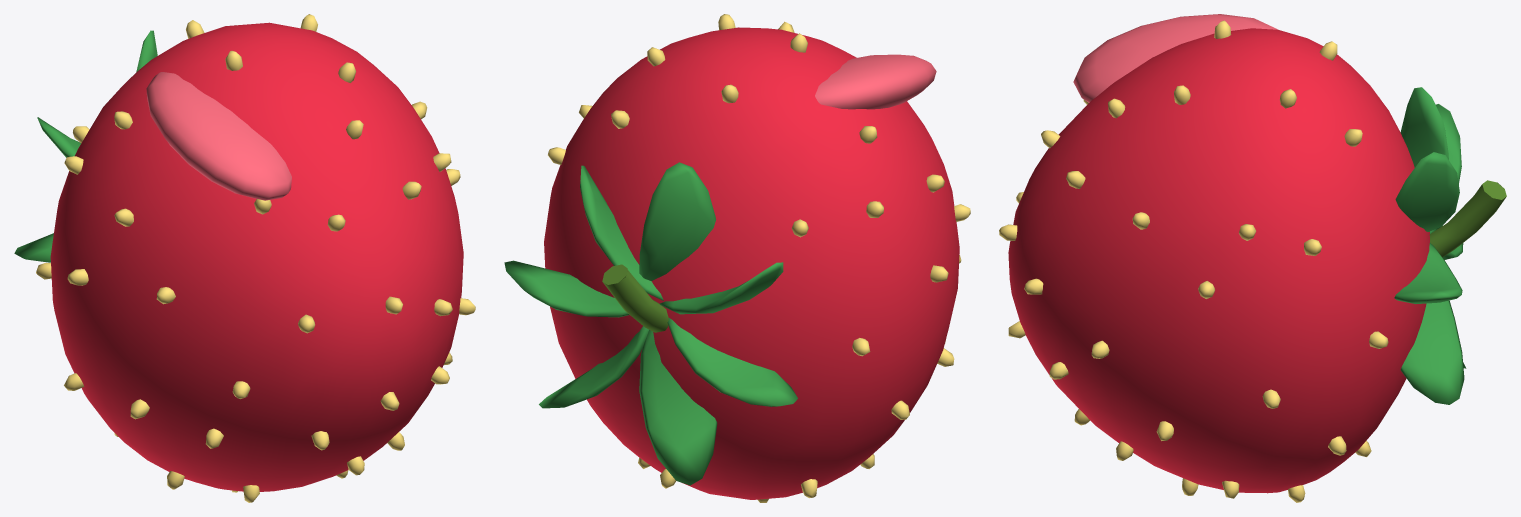
The model's file is tb_mat_jordbaer.glb.
3 views of the same model, side by side, from view 1: azimuth 30°, elevation 25°; view 2: azimuth 150°, elevation 25°; view 3: azimuth 270°, elevation 25° (orthographic). The views are drawn at different scales.
Visible parts, largest first — view 1: matkropp; view 2: matkropp; view 3: matkropp.
Boxes of the visible parts, x1,y1,x2,y2 form: matkropp: [14, 14, 475, 502]; matkropp: [504, 14, 970, 502]; matkropp: [999, 14, 1506, 502].
Size of the model in its own units: 0.7767 by 0.8958 by 0.9128.
